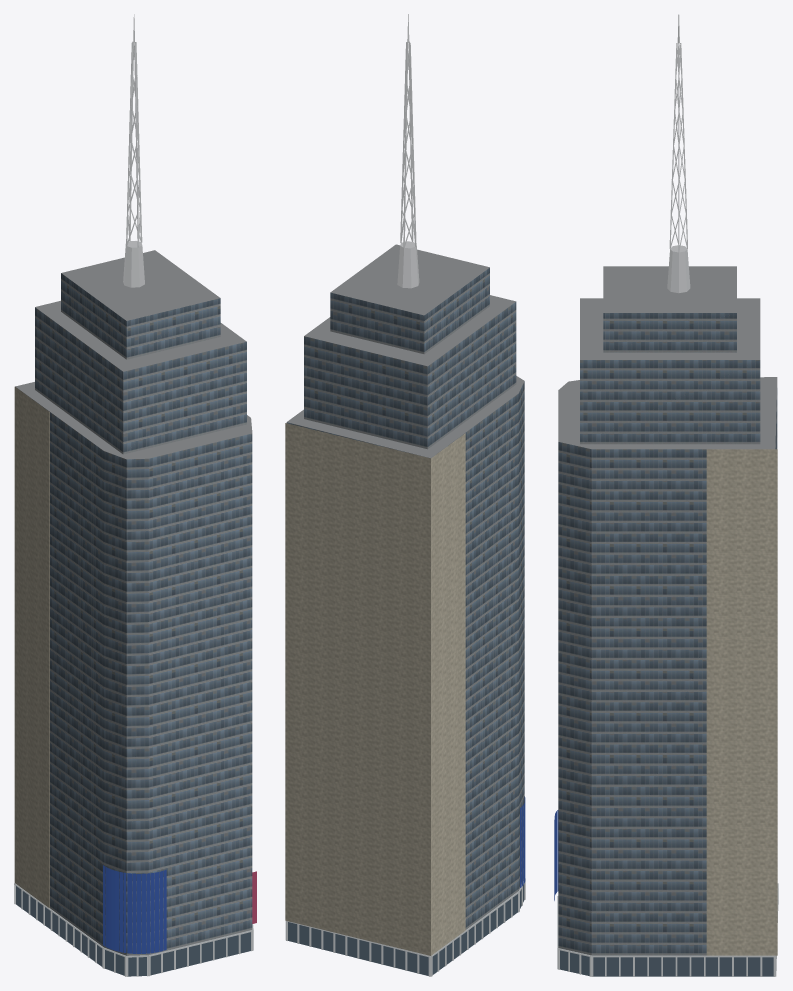
The model's file is four_times_square.glb.
3 renders of one model, left to right at view 1: azimuth 30°, elevation 25°; view 2: azimuth 150°, elevation 25°; view 3: azimuth 270°, elevation 25°, orthographic.
Parts seen in each view (by area): view 1: four_times_square; view 2: four_times_square; view 3: four_times_square.
Part boxes in pixels (box(x1,y1,x2,y2)): four_times_square: box(14, 14, 256, 976); four_times_square: box(285, 14, 525, 976); four_times_square: box(554, 14, 778, 976).
Bounding box in the file's own units: 59.39 × 351 × 77.08.
Materials: 3 (3 with a texture image).
